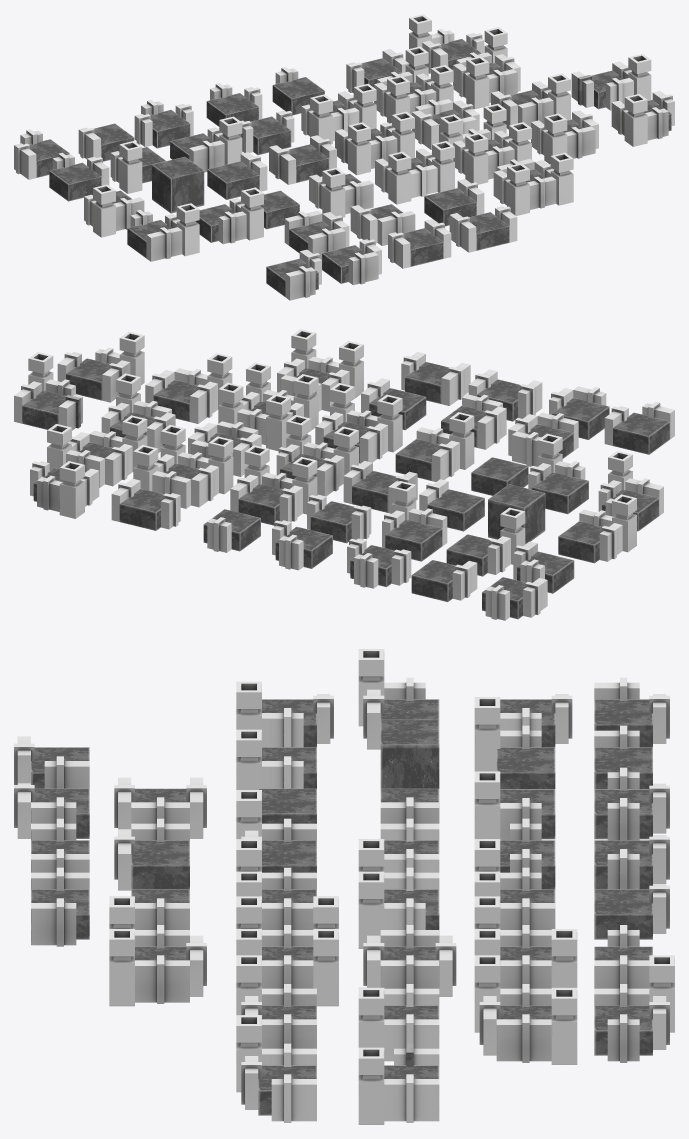
File: PuzzlePiecesAssets.glb
3 views of the same model, one above another, from view 1: azimuth 30°, elevation 25°; view 2: azimuth 150°, elevation 25°; view 3: azimuth 270°, elevation 25° (orthographic). The views are drawn at different scales.
Parts seen in each view (by area): view 1: FullSidePiece, UCornerFullSidePiece, UCornerPiece, FullCornerMTwoTPiece, FullCornerMOneTPiece, UCornerSmallSidePiece2, CornerSmallSidePiece, UCornerOneTPiece2, UCornerSmallSidePiece1, CornerMedTPiece, CornerMedSidePiece, UCornerTwoMedSidePiece (+26 smaller); view 2: FullCornerMOneTPiece, FullSidePiece, UCornerSmallSidePiece1, FullCornerMTwoTPiece, UCornerPiece, UCornerTwoMedSidePiece, CornerPiece, UCornerFullSidePiece, CornerSmallMedPiece1, UCornerSmallSidePiece2, UCornerOneTPiece2, CornerMedSidePiece (+26 smaller); view 3: FullCornerMTwoTPiece, UCornerFullSidePiece, FullSidePiece, CornerMedSidePiece, CorenerSmallSidePiece, FullCornerMOneTPiece, UCornerOneTPiece2, UCornerSmallSidePiece2, TileFourSidePiece, UCornerOneTPiece1, MedSideTowerPiece, CornerTwoSidePiece (+26 smaller).
Part boxes in pixels (left/top/right/bottom): FullSidePiece: left=440, top=103, right=531, bottom=184; UCornerFullSidePiece: left=493, top=152, right=573, bottom=215; UCornerPiece: left=375, top=141, right=454, bottom=204; FullCornerMTwoTPiece: left=453, top=27, right=520, bottom=109; FullCornerMOneTPiece: left=374, top=46, right=453, bottom=123; UCornerSmallSidePiece2: left=335, top=111, right=414, bottom=175; CornerSmallSidePiece: left=127, top=203, right=199, bottom=261; UCornerOneTPiece2: left=571, top=54, right=651, bottom=110; UCornerSmallSidePiece1: left=301, top=83, right=376, bottom=144; CornerMedTPiece: left=195, top=187, right=263, bottom=244; CornerMedSidePiece: left=611, top=91, right=674, bottom=146; UCornerTwoMedSidePiece: left=531, top=110, right=598, bottom=164; FullCornerMOneTPiece: left=133, top=424, right=233, bottom=508; FullSidePiece: left=218, top=362, right=318, bottom=451; UCornerSmallSidePiece1: left=230, top=445, right=317, bottom=525; FullCornerMTwoTPiece: left=47, top=415, right=147, bottom=487; UCornerPiece: left=315, top=383, right=402, bottom=463; UCornerTwoMedSidePiece: left=145, top=353, right=232, bottom=423; CornerPiece: left=395, top=412, right=474, bottom=481; UCornerFullSidePiece: left=277, top=329, right=363, bottom=411; CornerSmallMedPiece1: left=558, top=494, right=636, bottom=563; UCornerSmallSidePiece2: left=276, top=415, right=358, bottom=496; UCornerOneTPiece2: left=14, top=352, right=82, bottom=430; CornerMedSidePiece: left=57, top=331, right=144, bottom=402; FullCornerMTwoTPiece: left=474, top=955, right=577, bottom=1064; UCornerFullSidePiece: left=109, top=896, right=206, bottom=1006; FullSidePiece: left=236, top=896, right=338, bottom=1006; CornerMedSidePiece: left=236, top=1015, right=316, bottom=1122; CorenerSmallSidePiece: left=594, top=955, right=674, bottom=1062; FullCornerMOneTPiece: left=474, top=896, right=577, bottom=988; UCornerOneTPiece2: left=358, top=1043, right=439, bottom=1124; UCornerSmallSidePiece2: left=358, top=839, right=439, bottom=948; TileFourSidePiece: left=363, top=925, right=456, bottom=996; UCornerOneTPiece1: left=358, top=984, right=439, bottom=1061; MedSideTowerPiece: left=474, top=697, right=555, bottom=788; CornerTwoSidePiece: left=114, top=818, right=189, bottom=890.
Bounding box in the file's own units: 49.56 × 3.75 × 33.81.
3 materials, 3 textured.
